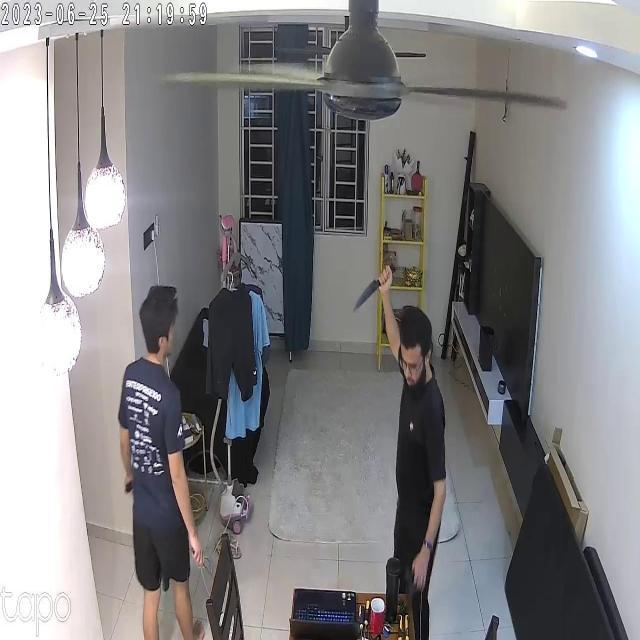Knife: (353, 262, 399, 322)
